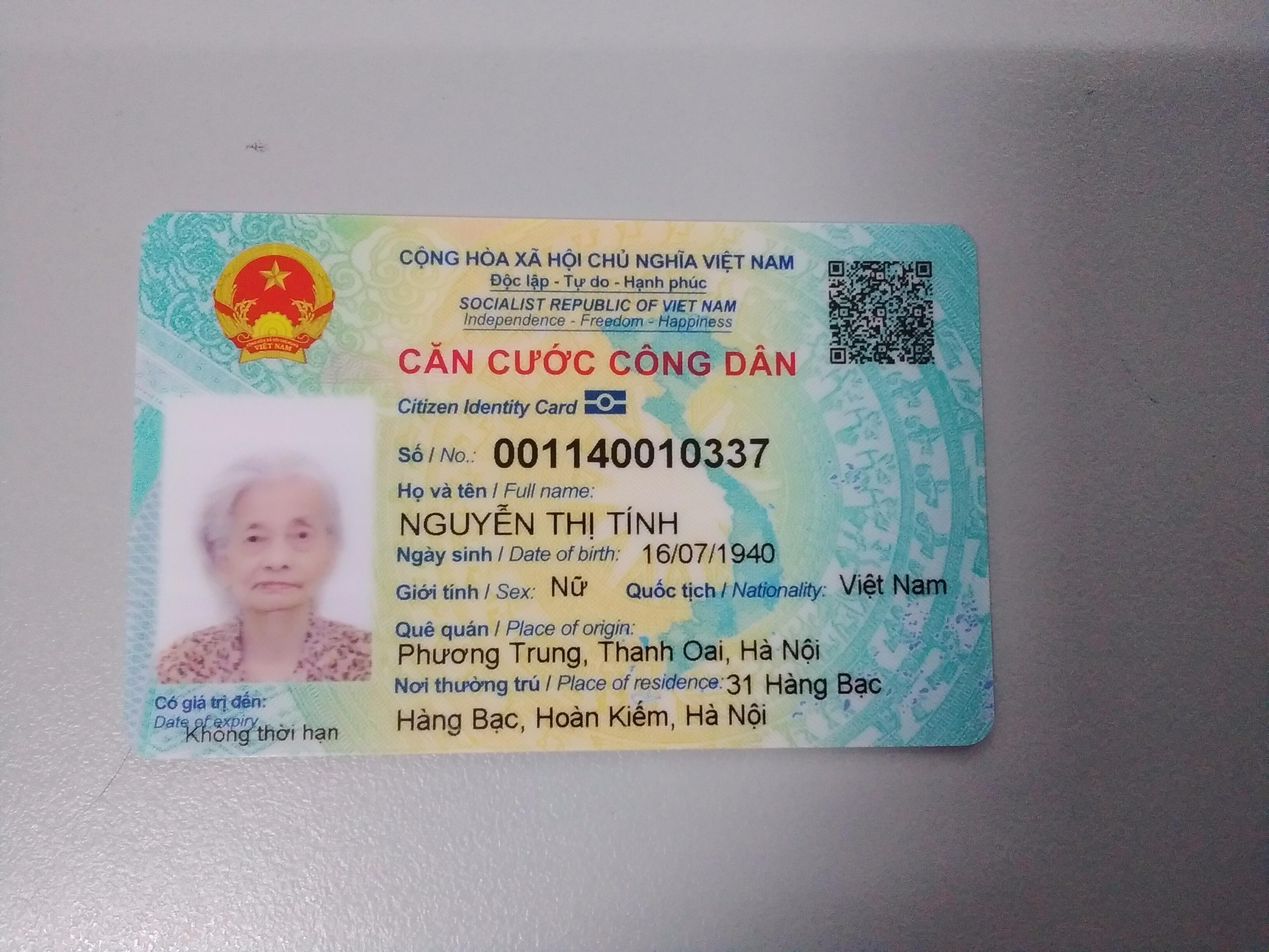ID: (490, 430, 780, 475)
birth: (641, 537, 777, 567)
name: (393, 504, 687, 542)
place: (393, 632, 823, 671)
residence: (387, 696, 781, 737), (719, 667, 890, 703)
